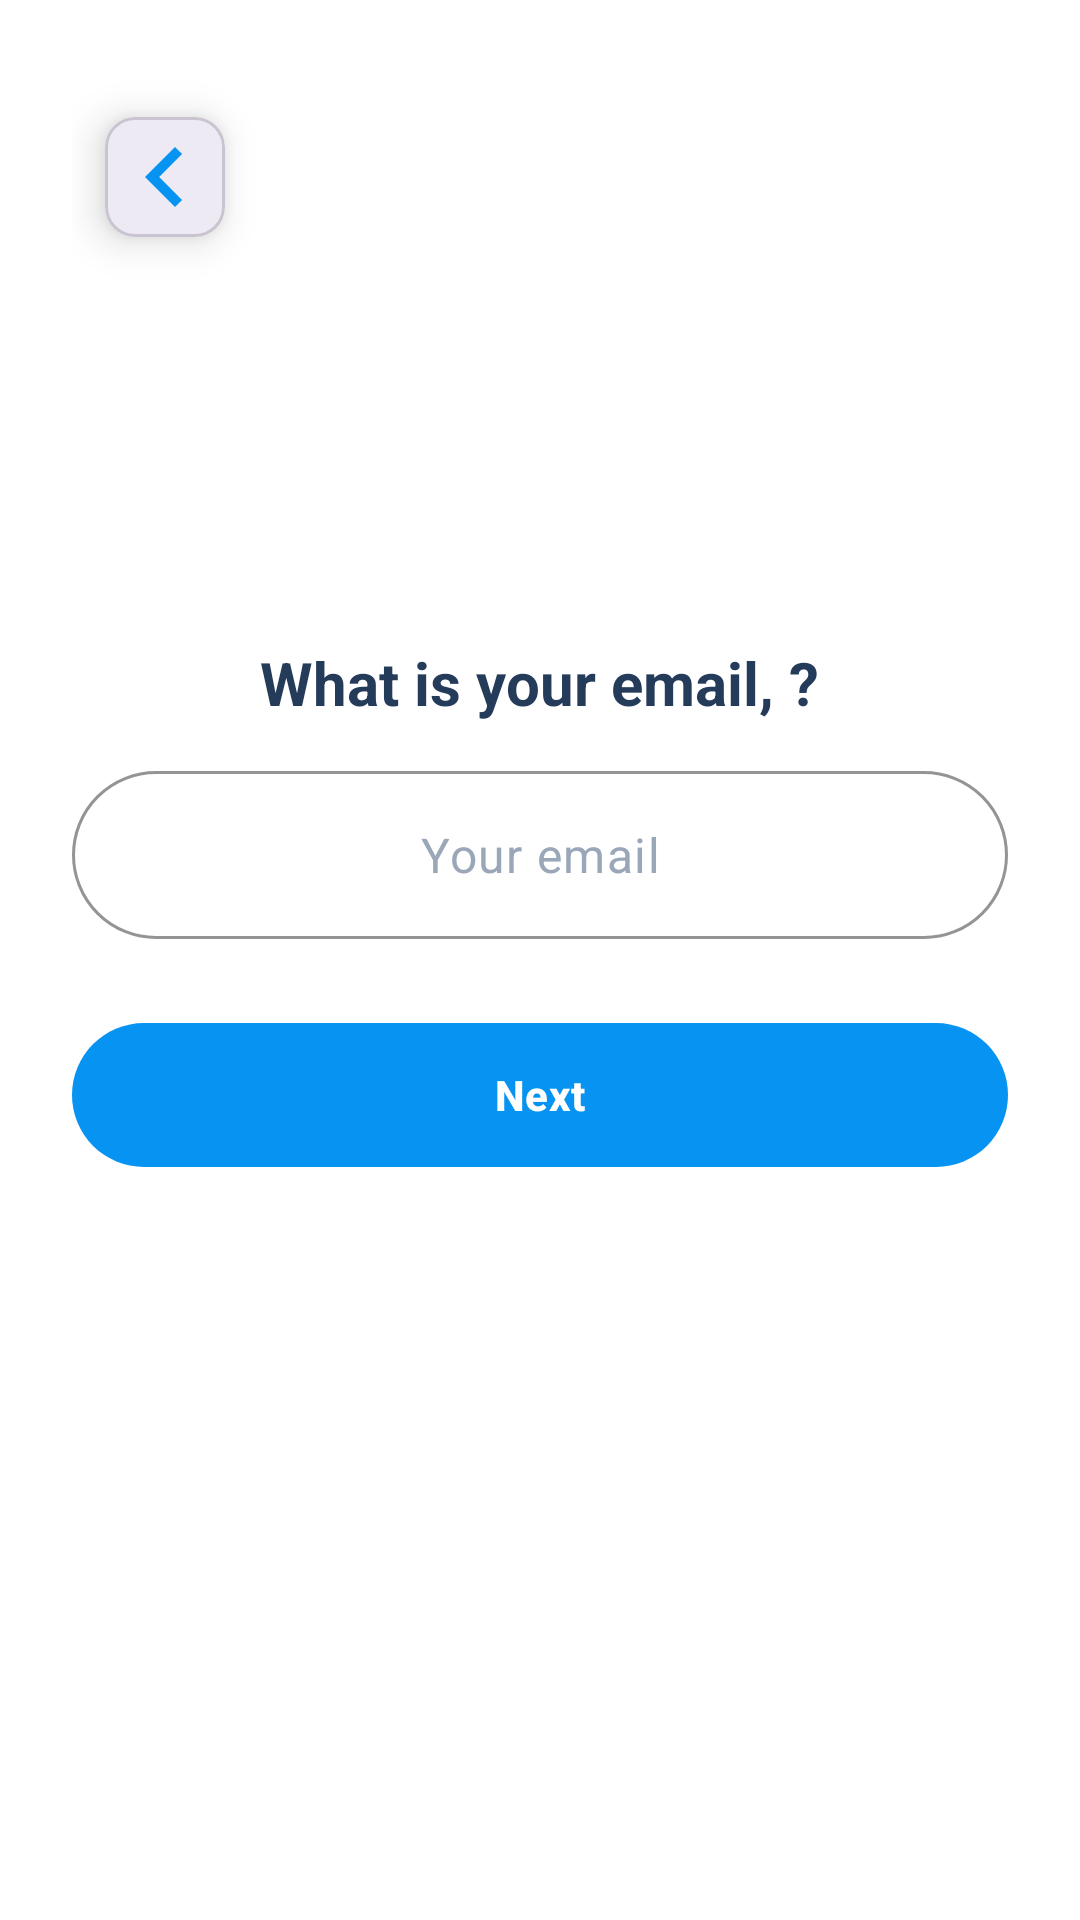

Where to tap for icons on this 1080×1920 app screen, as (x=x, y=y):
Back: (x=165, y=177)
